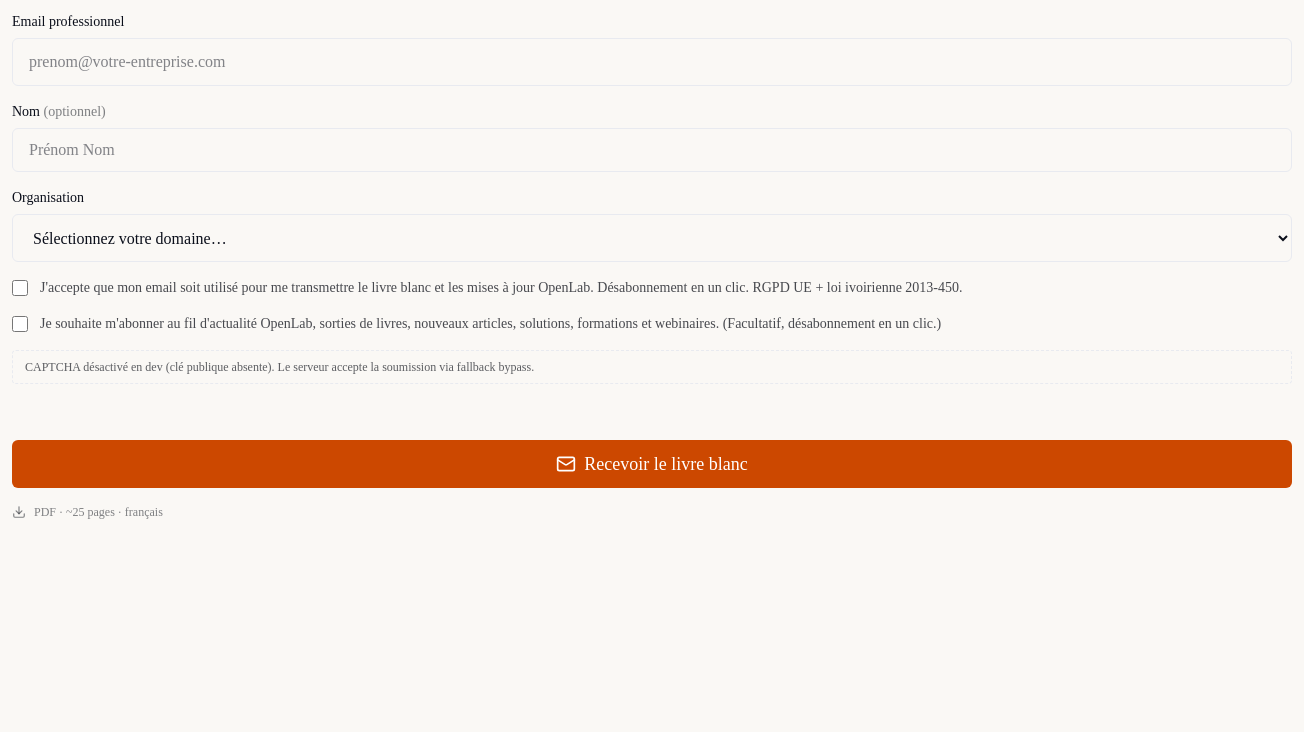
WhitepaperRequestForm › redirige et affiche success sur 200 OK
Type "cto@banque-atlantique.ci" into the field labelled "Email professionnel". click: point(652, 62)
box: x1=12 y1=38 x2=1292 y2=86
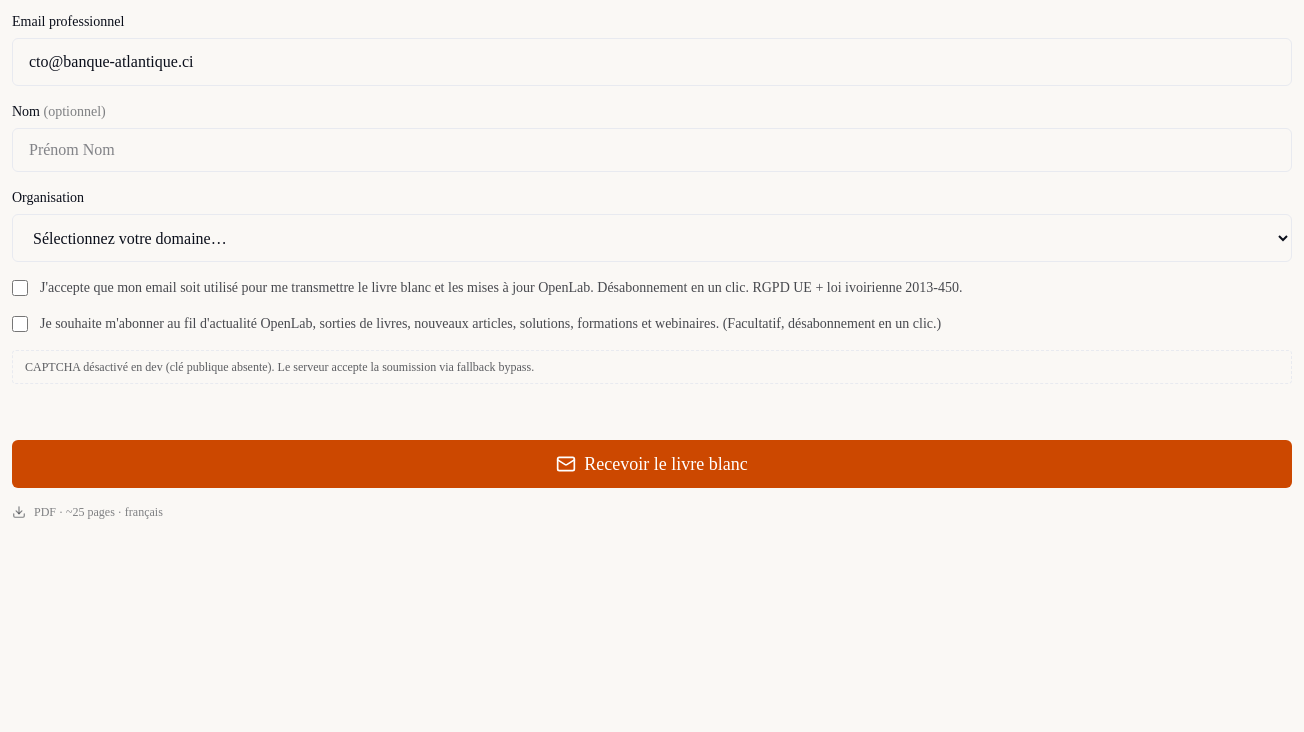
Click the checkbox labelled "accepte". click: point(20, 288)
box: x1=12 y1=280 x2=28 y2=296
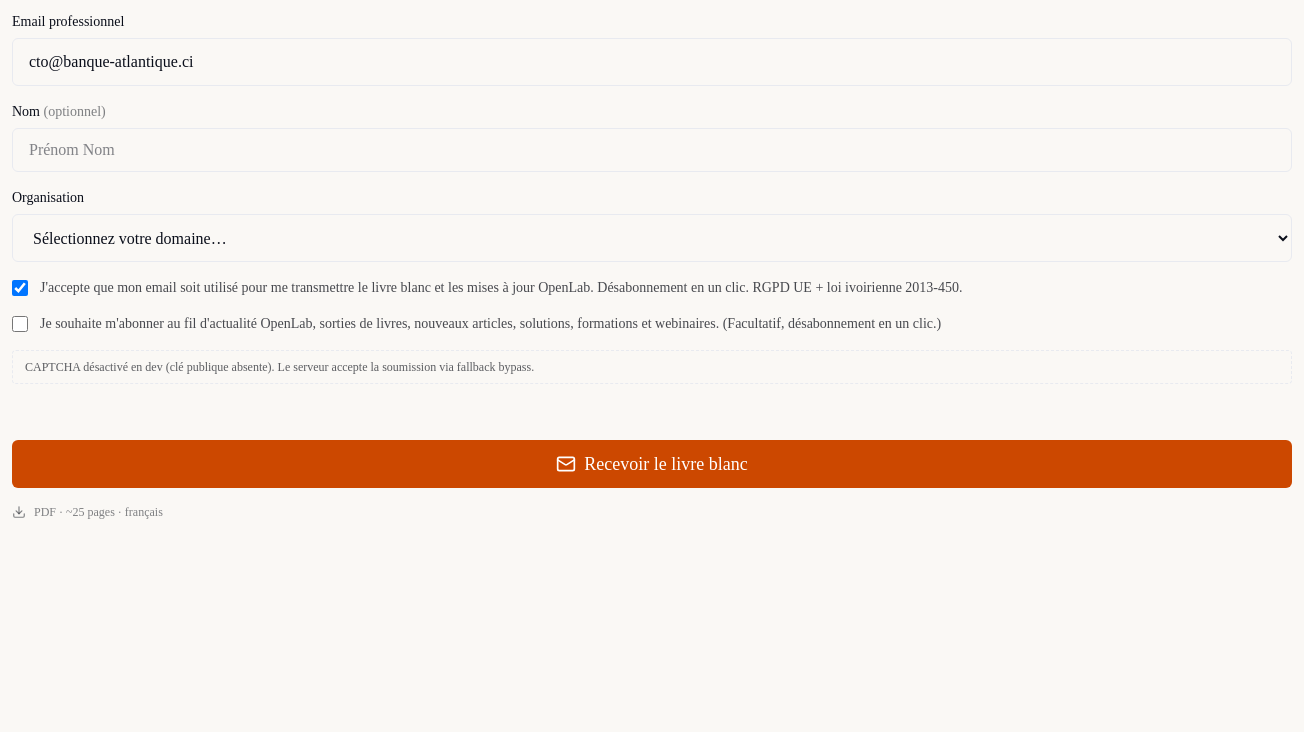
Submit the form named "Recevoir le livre blanc"
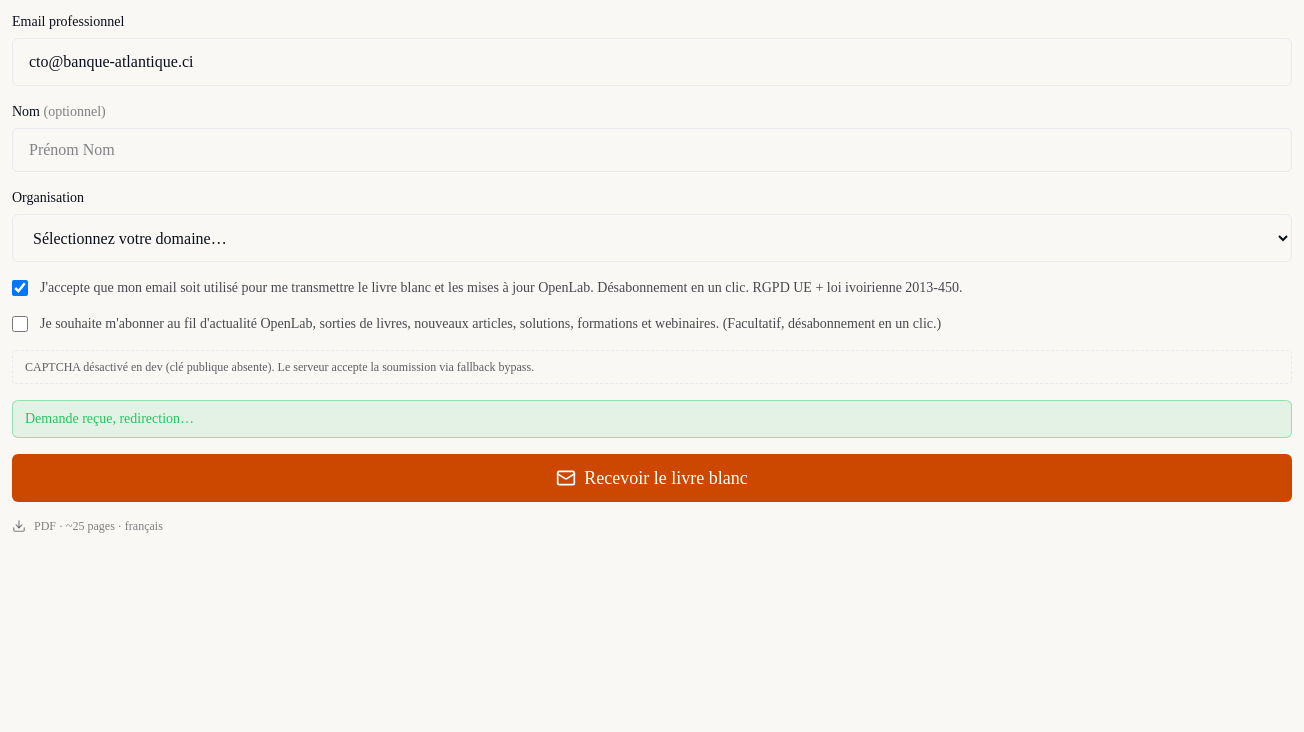
expect the text "Demande reçue, redirection…" is shown: met, box x1=12 y1=400 x2=1292 y2=438
